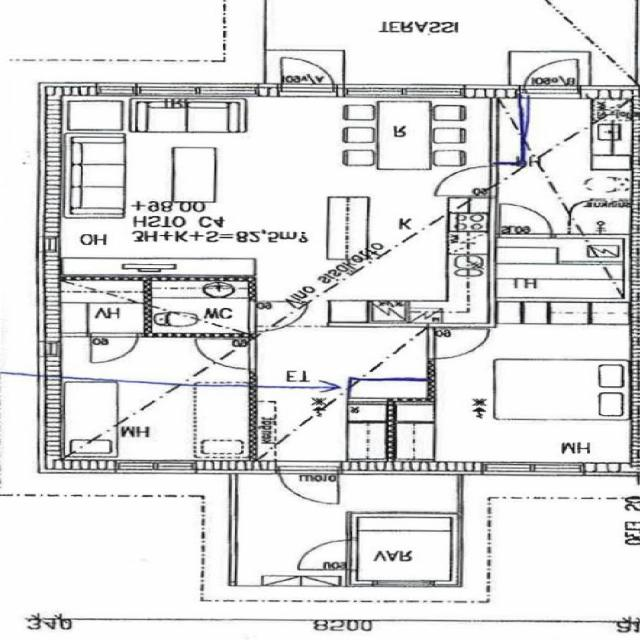door: (280, 462, 340, 508), (525, 54, 578, 96), (282, 55, 333, 97), (293, 539, 358, 569), (195, 339, 257, 369), (250, 301, 310, 331), (428, 329, 489, 358), (436, 166, 496, 195), (500, 205, 552, 238), (91, 333, 139, 363)
